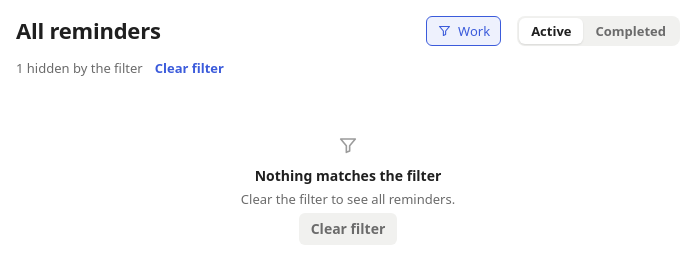
it: AllRemindersView › shows a clear action when the filter hides everything
Expected: the text "Nothing matches the filter" is shown, [255,166,441,186]
Click the button "Clear filter" below "Clear the filter to see all reminders.".
click(348, 229)  # box [299,213,397,245]
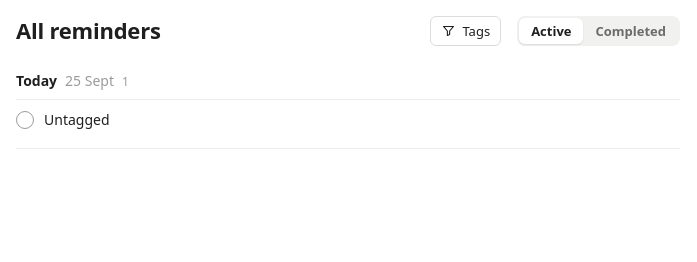
Now the text "Untagged" is shown, box [44,110,110,130]
